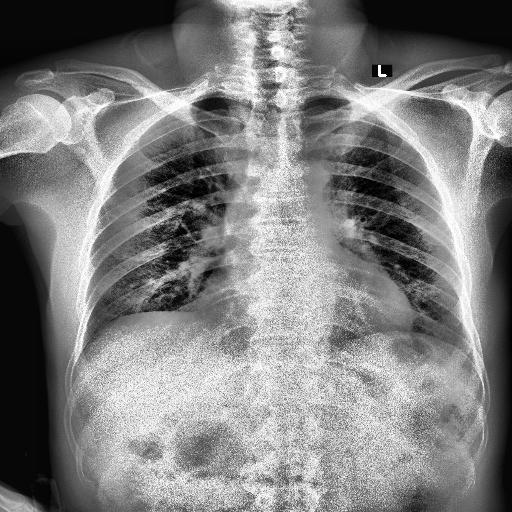0- Aortic enlargement: (222, 162, 332, 246)
3- Cardiomegaly: (193, 285, 415, 358), (192, 271, 411, 335)
